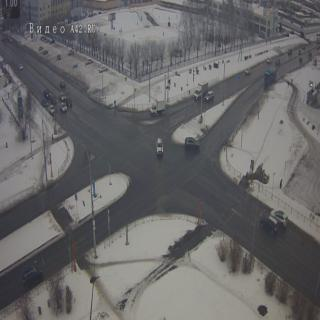large-vehicle: (150, 100, 166, 116), (195, 82, 208, 98), (265, 69, 276, 83)
small-vehicle: (22, 264, 42, 284), (271, 207, 288, 228), (261, 216, 278, 236), (184, 137, 200, 151), (156, 138, 164, 156), (42, 87, 51, 99), (204, 92, 214, 102), (59, 102, 68, 113), (66, 97, 73, 111), (98, 64, 108, 73), (40, 99, 49, 108), (58, 92, 66, 102), (244, 67, 251, 76), (274, 59, 282, 66), (60, 79, 66, 88), (42, 49, 49, 56), (50, 104, 54, 116), (50, 97, 56, 105), (266, 56, 272, 64), (286, 47, 292, 55), (86, 58, 93, 64), (38, 44, 44, 51), (49, 39, 56, 45), (308, 50, 313, 58), (57, 53, 62, 61), (296, 49, 302, 55), (68, 50, 74, 56), (40, 36, 46, 42), (19, 65, 24, 72), (298, 55, 303, 62), (45, 38, 50, 44), (302, 44, 306, 50)
